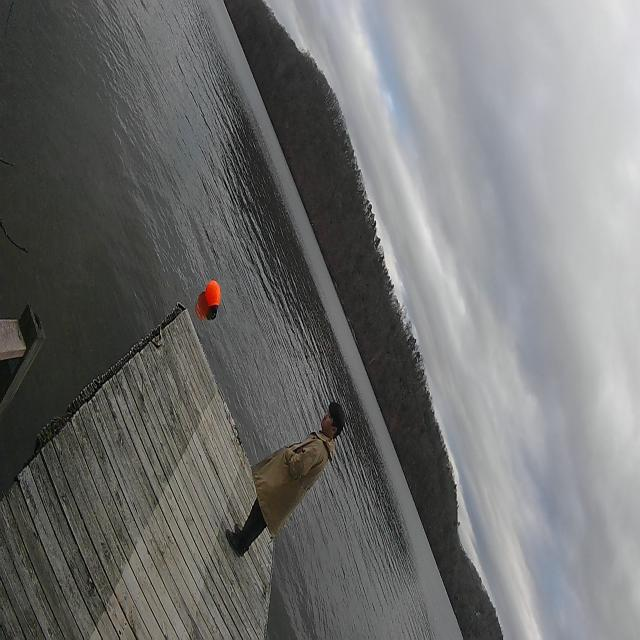Buoy: (200, 278, 223, 325)
